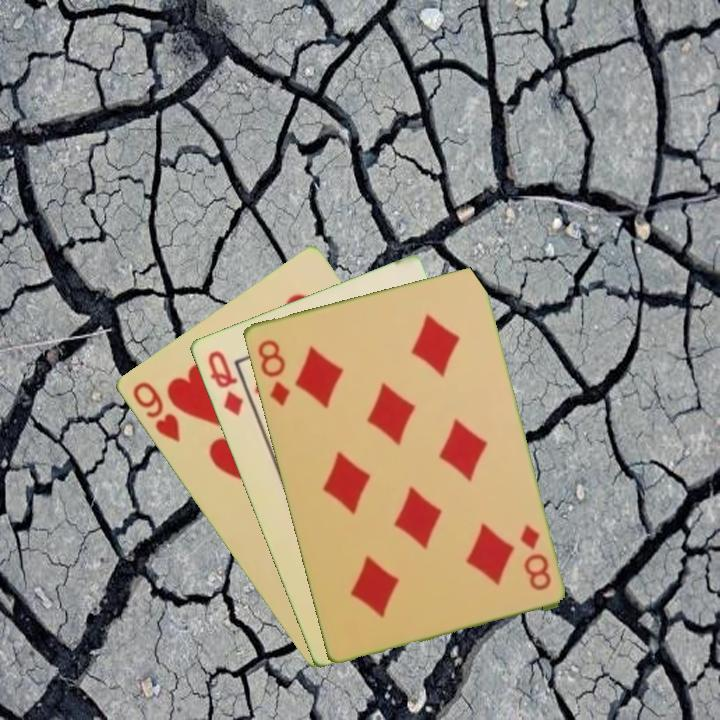8d: (253, 335, 292, 408), (516, 520, 554, 593)
9h: (128, 378, 183, 445)
Qd: (203, 346, 246, 419)
